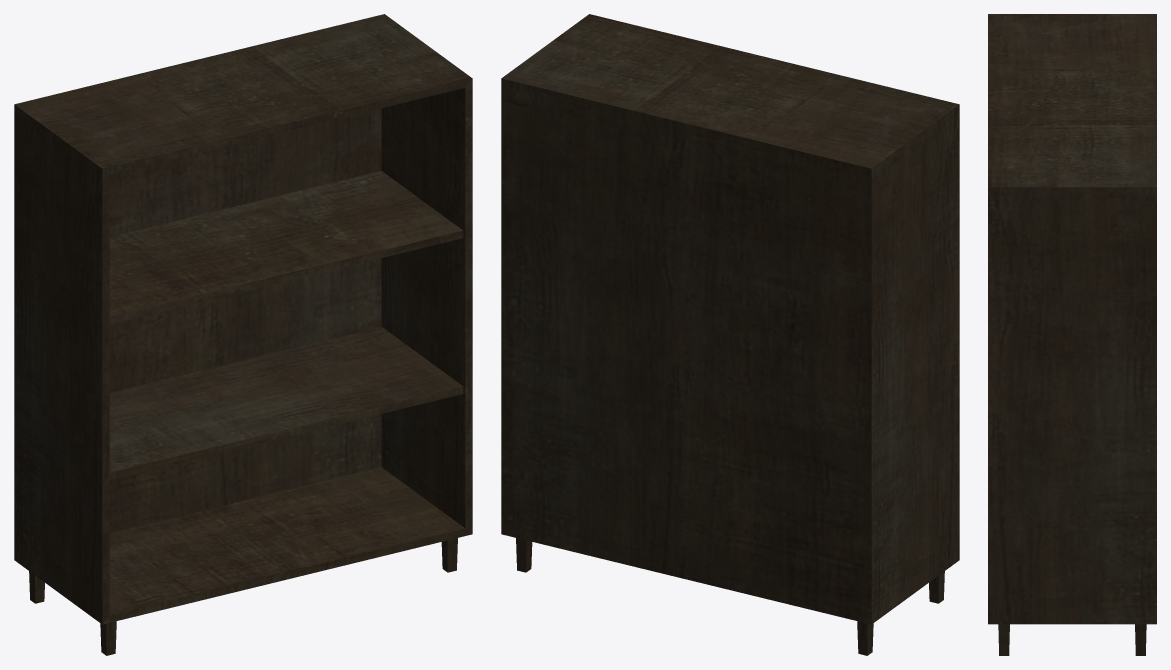
The model's file is shelf_mp_3_4.obj.
The picture shows the model from 3 angles, left to right: view 1: azimuth 30°, elevation 25°; view 2: azimuth 150°, elevation 25°; view 3: azimuth 270°, elevation 25°; orthographic projection. The views are drawn at different scales.
Parts seen in each view (by area): view 1: shelf_mp_3_4; view 2: shelf_mp_3_4; view 3: shelf_mp_3_4.
Boxes of the visible parts, <box> form: shelf_mp_3_4: <box>14,14,472,655</box>; shelf_mp_3_4: <box>501,14,959,655</box>; shelf_mp_3_4: <box>988,14,1156,655</box>.
Size of the model in its own units: 1.02 by 1.3 by 0.42.
